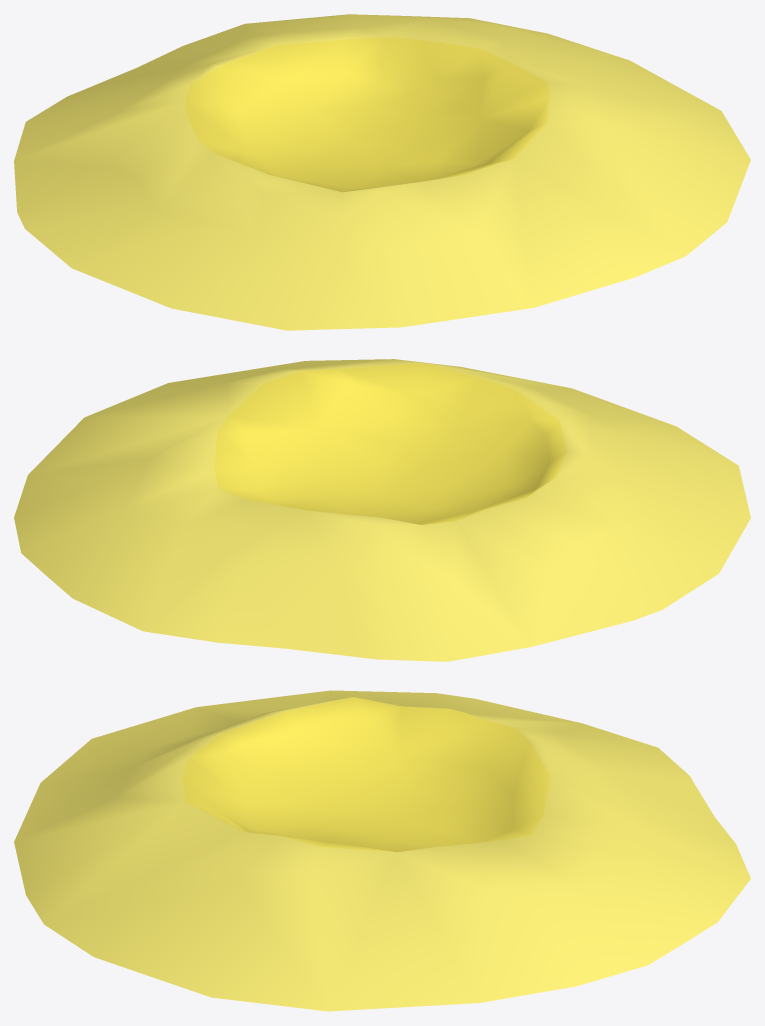
The model's file is Hill_024.glb.
The picture shows the model from 3 angles, top to bottom: view 1: azimuth 30°, elevation 25°; view 2: azimuth 150°, elevation 25°; view 3: azimuth 270°, elevation 25°; orthographic projection. The views are drawn at different scales.
Visible parts, largest first — view 1: Hill_024; view 2: Hill_024; view 3: Hill_024.
Part boxes in pixels (bbox=[...]): Hill_024: bbox=[14, 14, 750, 330]; Hill_024: bbox=[14, 359, 750, 661]; Hill_024: bbox=[14, 690, 750, 1011].
Bounding box in the file's own units: 3.15 × 0.3608 × 3.06.
1 material, 1 textured.
